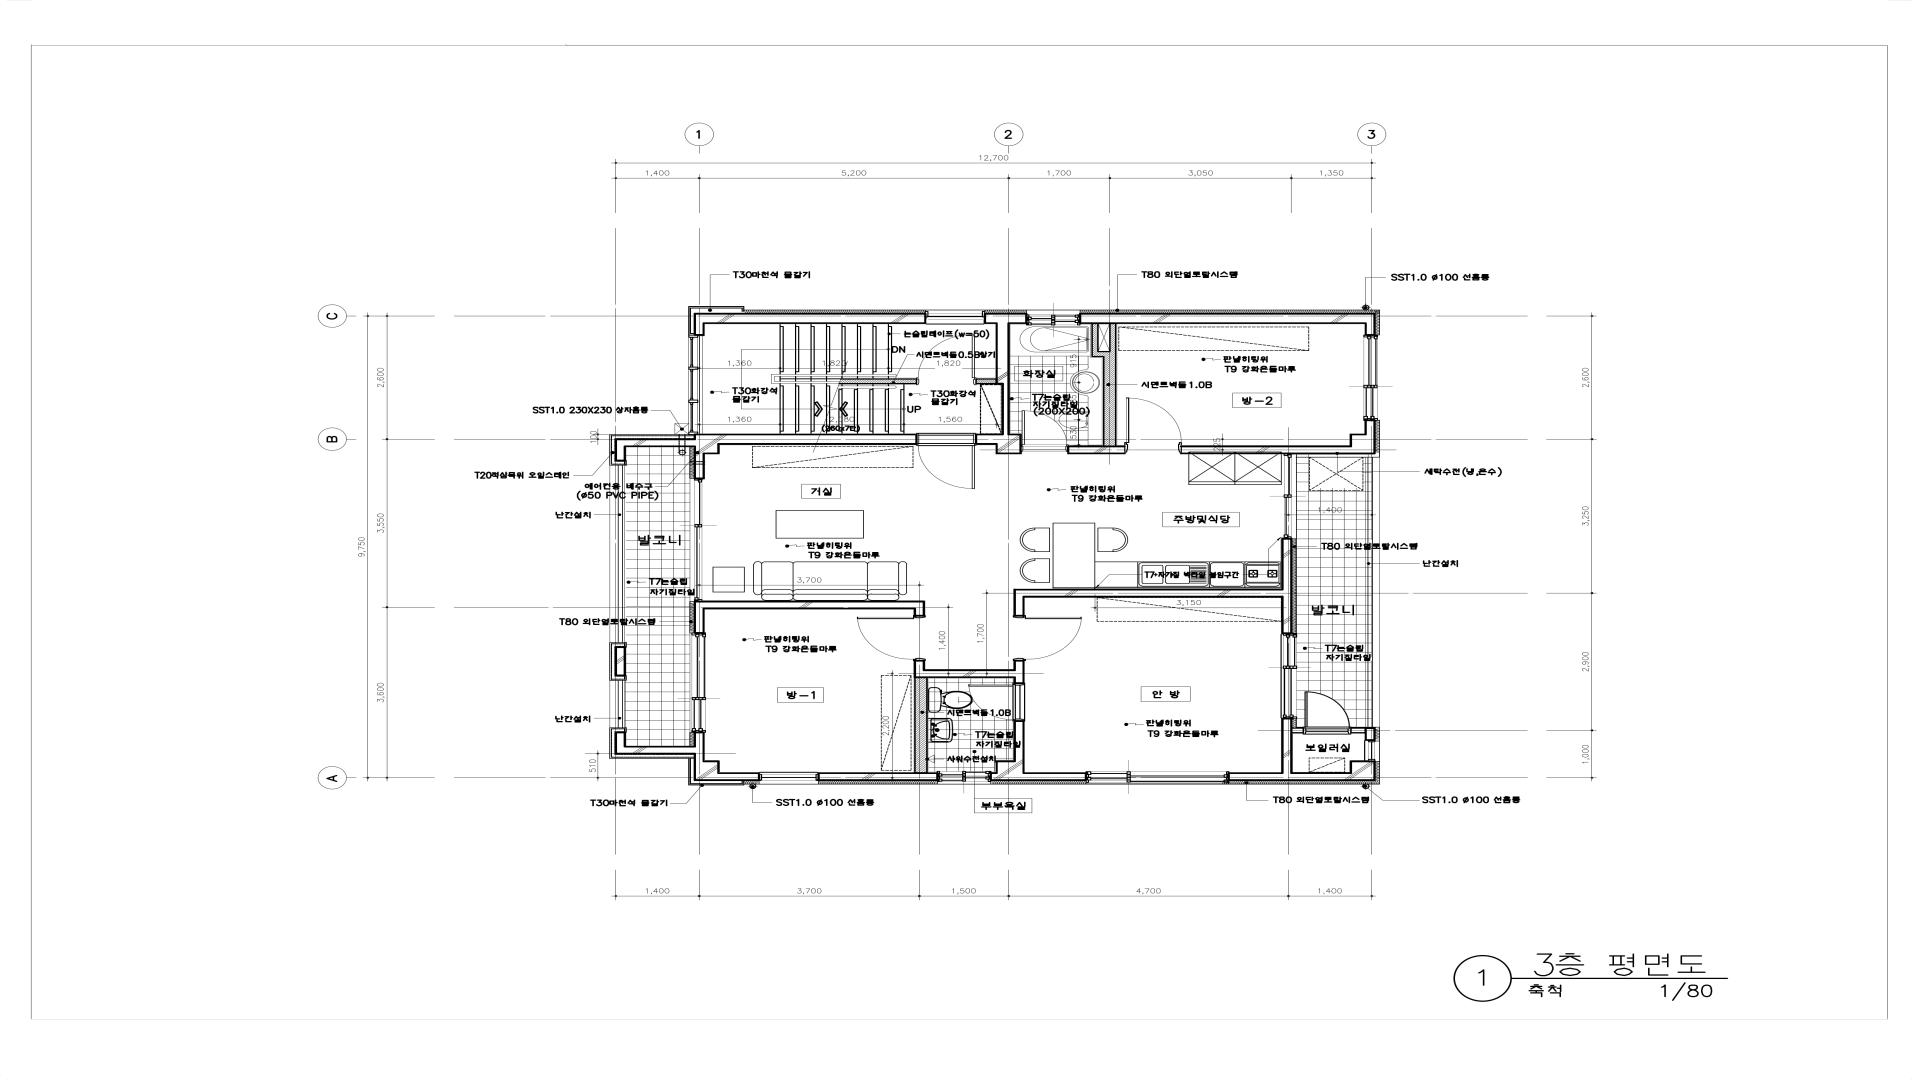door: (918, 433, 976, 489), (1124, 397, 1182, 452), (857, 615, 926, 661), (1014, 616, 1083, 661), (916, 335, 976, 385), (1303, 691, 1352, 735), (968, 684, 1025, 721), (1021, 410, 1067, 452)
wall: (694, 434, 918, 454), (1080, 313, 1375, 324), (1229, 761, 1375, 781), (704, 313, 926, 324), (1025, 588, 1282, 597), (704, 601, 924, 609), (996, 323, 1010, 434), (688, 306, 744, 335), (1182, 446, 1350, 455), (996, 721, 1025, 773), (914, 678, 928, 773), (694, 732, 720, 781), (1102, 357, 1117, 446), (1282, 538, 1292, 633), (975, 434, 1022, 454), (818, 773, 936, 781), (1349, 421, 1375, 455), (1091, 324, 1117, 357), (992, 771, 1085, 781), (924, 669, 1014, 678), (615, 438, 694, 447), (626, 746, 694, 756), (839, 377, 916, 385), (1282, 719, 1292, 773), (1067, 446, 1125, 455), (985, 313, 1027, 324), (615, 646, 626, 676), (694, 601, 704, 633), (609, 434, 694, 438), (609, 754, 694, 758), (694, 454, 705, 480), (720, 773, 760, 781), (1014, 588, 1025, 616), (694, 313, 705, 336), (615, 732, 626, 756), (694, 781, 744, 786), (1014, 661, 1025, 684), (914, 659, 926, 678), (609, 646, 615, 680), (615, 447, 626, 462), (1365, 727, 1375, 741), (609, 438, 615, 465), (688, 758, 694, 786), (609, 732, 615, 754), (1365, 324, 1375, 335), (976, 378, 996, 384), (1352, 727, 1365, 733), (1292, 727, 1303, 733), (609, 642, 626, 646), (609, 728, 626, 732), (914, 609, 926, 615), (615, 462, 626, 465), (615, 676, 626, 680)
window: (1367, 458, 1379, 727), (609, 465, 625, 642), (1085, 771, 1229, 785), (690, 479, 703, 601), (690, 633, 705, 732), (1280, 633, 1298, 719), (688, 336, 703, 434), (1364, 335, 1378, 421), (1282, 455, 1296, 538), (926, 310, 985, 324), (1027, 310, 1080, 326), (760, 771, 818, 785), (609, 680, 625, 728), (936, 771, 992, 785), (1364, 741, 1381, 761)
